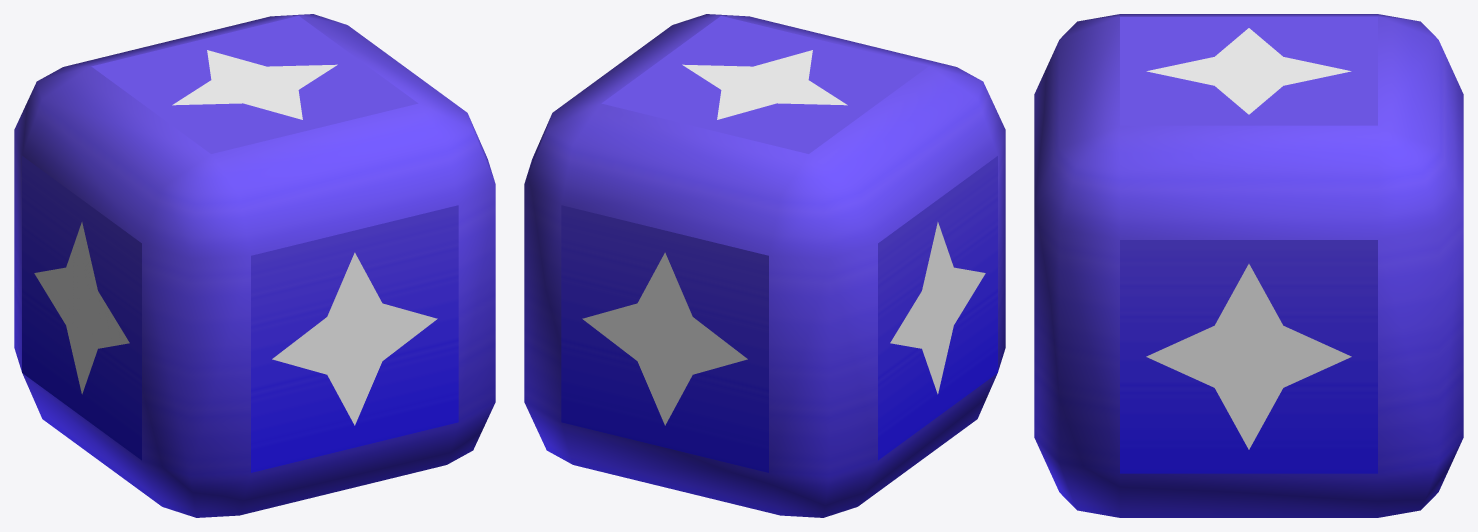
The model's file is item-box.fbx.
3 renders of one model, left to right at view 1: azimuth 30°, elevation 25°; view 2: azimuth 150°, elevation 25°; view 3: azimuth 270°, elevation 25°, orthographic. The views are drawn at different scales.
Visible parts, largest first — view 1: item-box; view 2: item-box; view 3: item-box.
Part boxes in pixels (box(x1,y1,x2,y2)): item-box: box(14, 14, 495, 517); item-box: box(524, 14, 1005, 517); item-box: box(1034, 14, 1463, 517).
Bounding box in the file's own units: 44.5 × 44.5 × 44.5.
